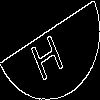H: (25, 25, 66, 82)
